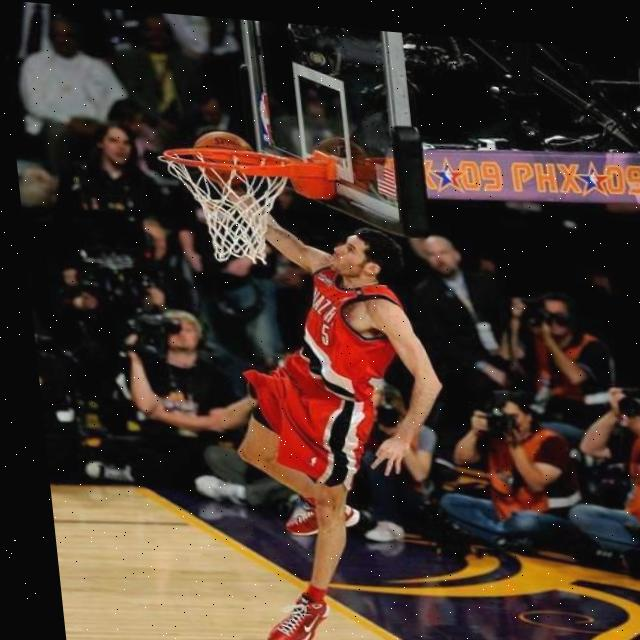basketball: (191, 128, 260, 189)
hoop: (157, 145, 301, 269)
